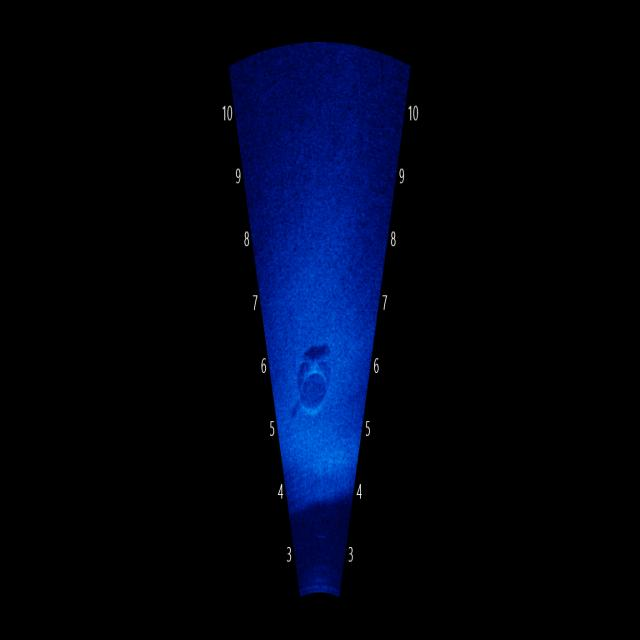circle: (286, 336, 345, 436)
